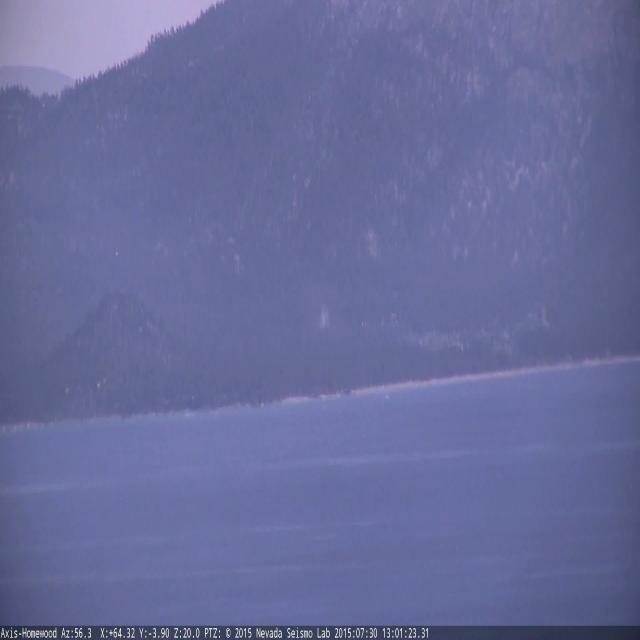smoke: (318, 302, 330, 329)
